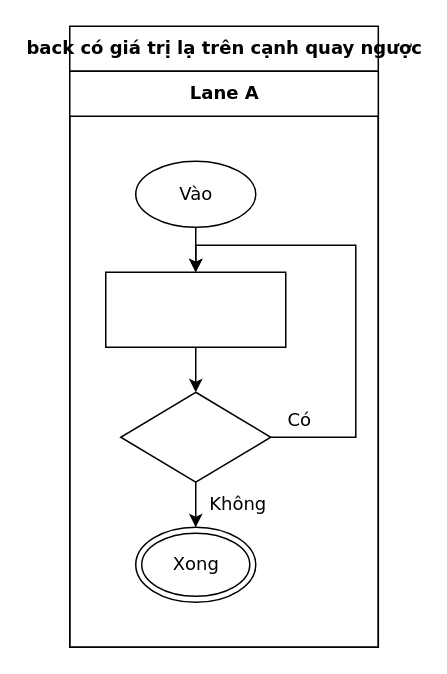
This 447x674 diagram has some shape labels left out. The centre of each missing label's shape, as x and y in pixels:
Lại?: (x=195, y=436)
Thử: (x=195, y=309)
